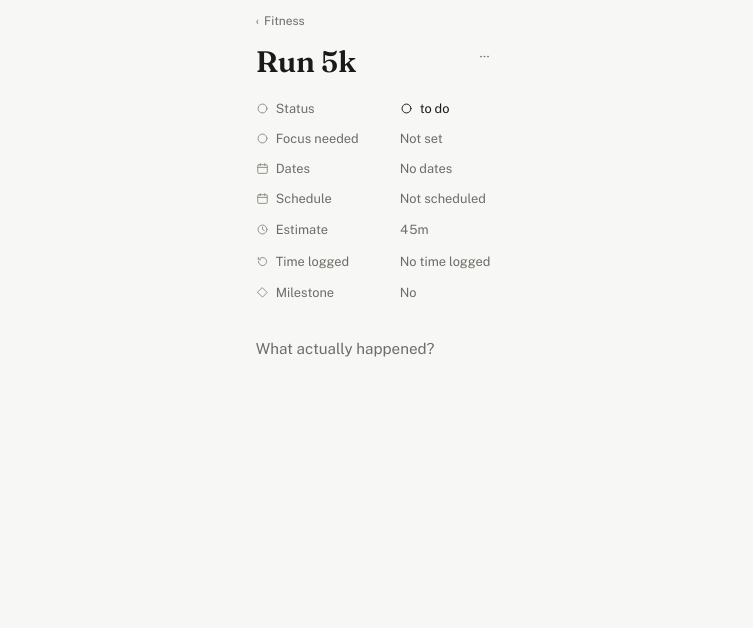
TaskPage › offers to break the task into subtasks from the menu, since no tree row can
The width and height of the screenshot is (753, 628).
expect the button "Break into smaller steps" is not shown: met
Step 1. Click the button named "Actions for " → (484, 56), box [472,44,496,68]
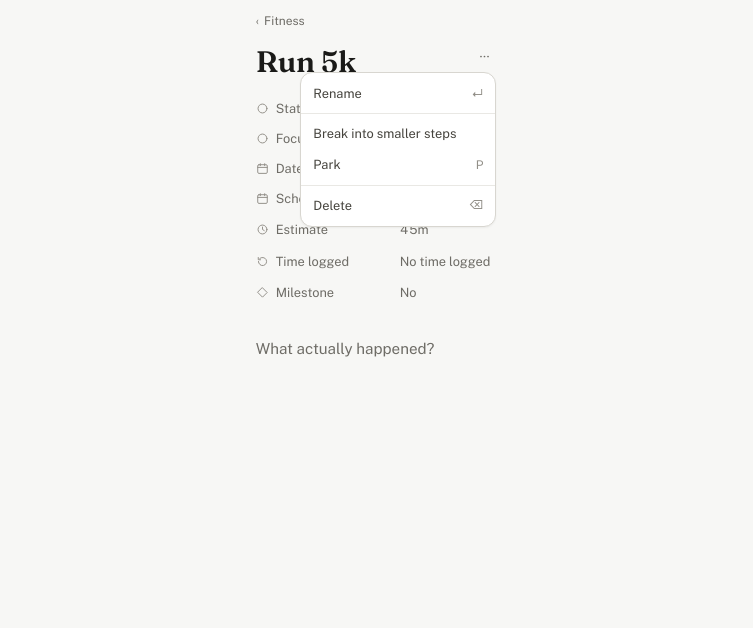
Step 2. Click the menu item "Break into smaller steps" → (398, 134), box [301,118,495,149]
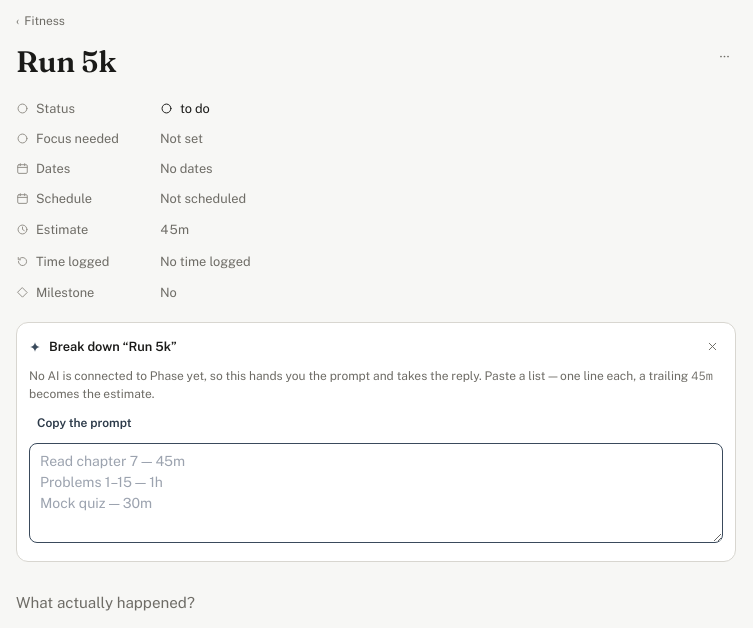
expect the heading "Break down “Run 5k”" is shown: met, box [49,339,177,354]
